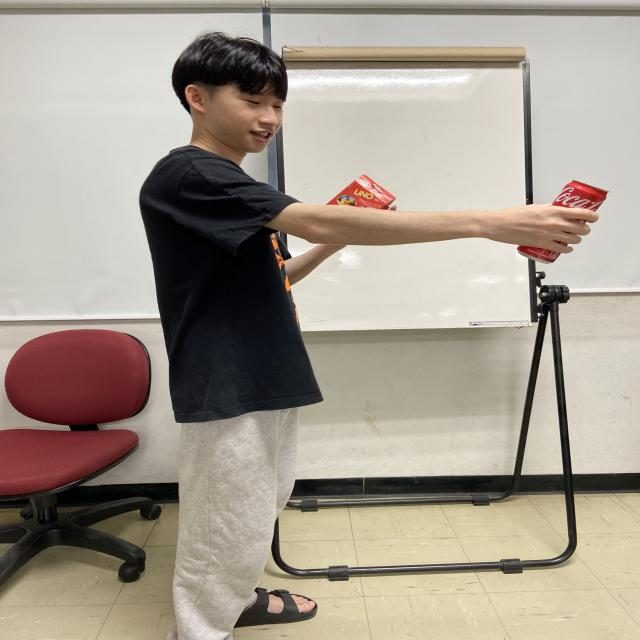can: (514, 178, 611, 265)
